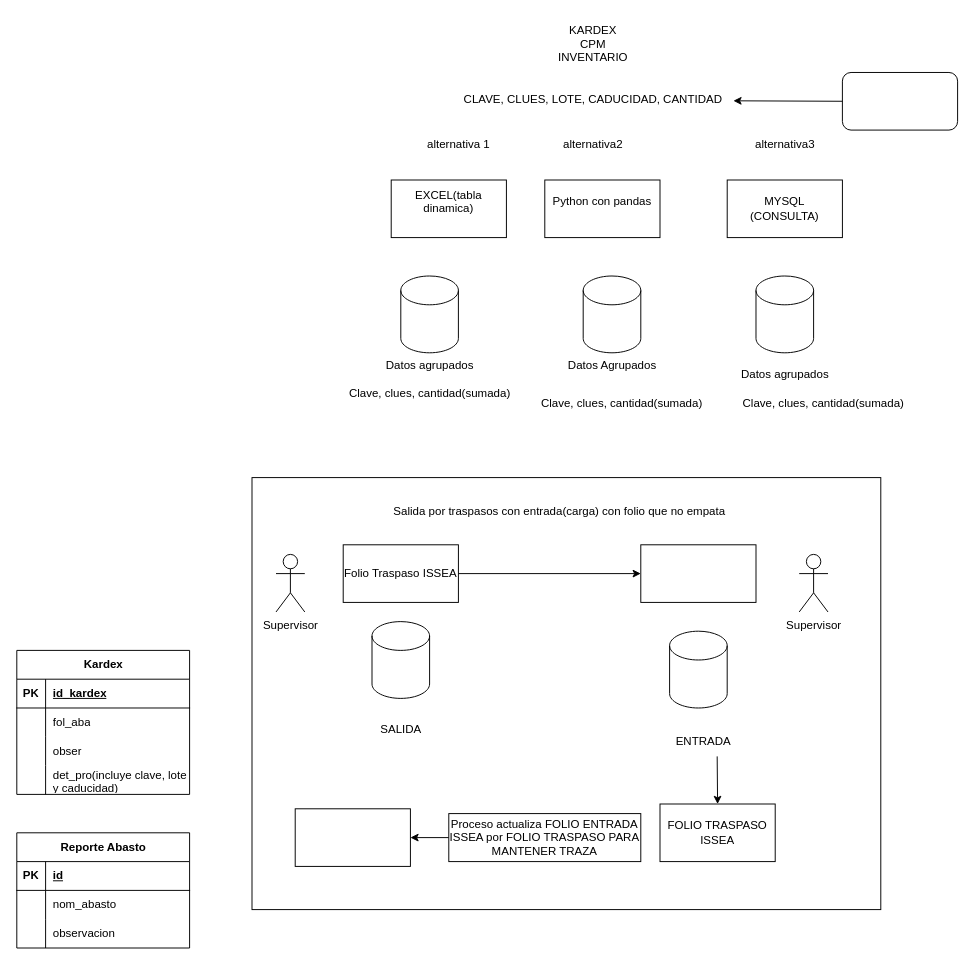
Image size: 974x965. Some labels were removed from this diagram. Here are the shapes that lost their labels. From the top down, the centre of each, then its label:
the point at 899,101: Agrupar los datos solo por clave,clues para cuadrar cantidades
the point at 698,573: FOLIO ENTRADA ISSEA
the point at 352,837: En caso de que haya sido manual modificar
